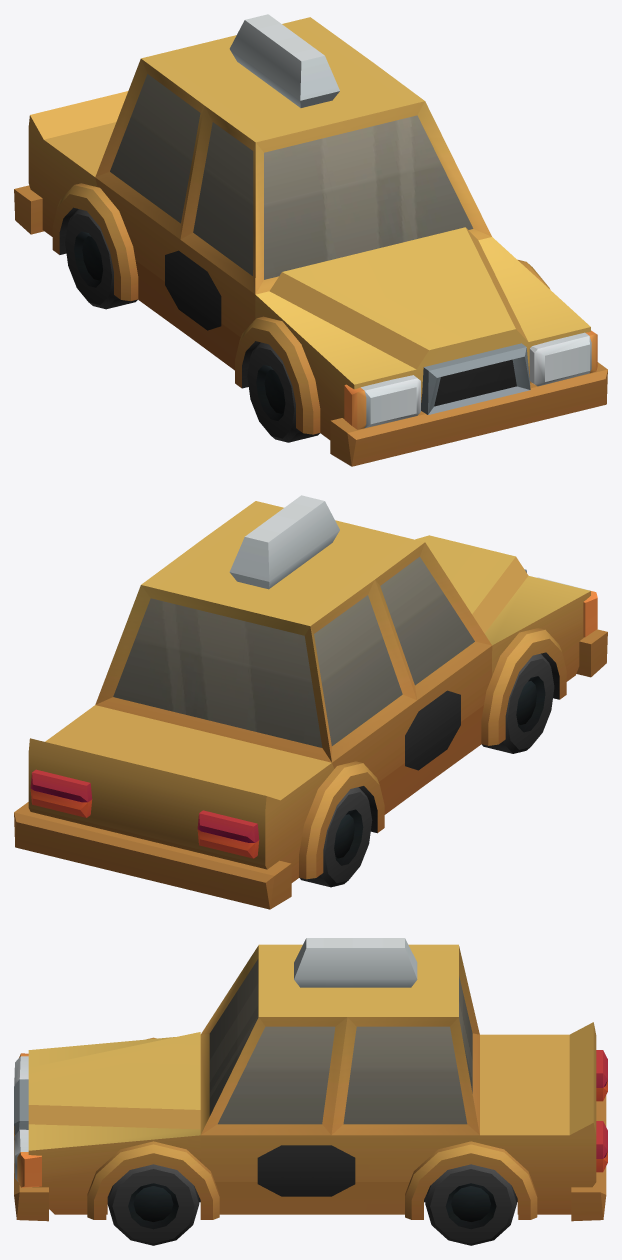
File: taxi.glb
3 views of the same model, one above another, from view 1: azimuth 30°, elevation 25°; view 2: azimuth 150°, elevation 25°; view 3: azimuth 270°, elevation 25° (orthographic). The views are drawn at different scales.
Parts seen in each view (by area): view 1: Cube.1023, car_taxi_wheel_rear_right, car_taxi_wheel_front_right; view 2: Cube.1023, car_taxi_wheel_front_right, car_taxi_wheel_rear_right; view 3: Cube.1023, car_taxi_wheel_front_left, car_taxi_wheel_rear_left.
Part boxes in pixels (x1,y1,x2,y2): Cube.1023: [14, 14, 607, 466]; car_taxi_wheel_rear_right: [65, 209, 137, 309]; car_taxi_wheel_front_right: [247, 342, 319, 442]; Cube.1023: [14, 495, 607, 909]; car_taxi_wheel_front_right: [482, 653, 554, 753]; car_taxi_wheel_rear_right: [299, 787, 372, 887]; Cube.1023: [14, 938, 607, 1221]; car_taxi_wheel_front_left: [107, 1164, 199, 1245]; car_taxi_wheel_rear_left: [425, 1164, 516, 1245].
Size of the model in its own units: 2.05 by 2.13 by 4.6.
Materials: 1 (1 with a texture image).
